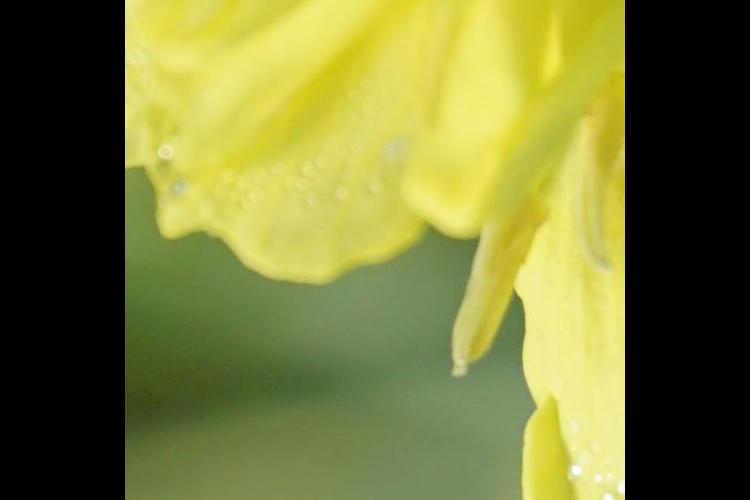yellow: (147, 1, 621, 500)
